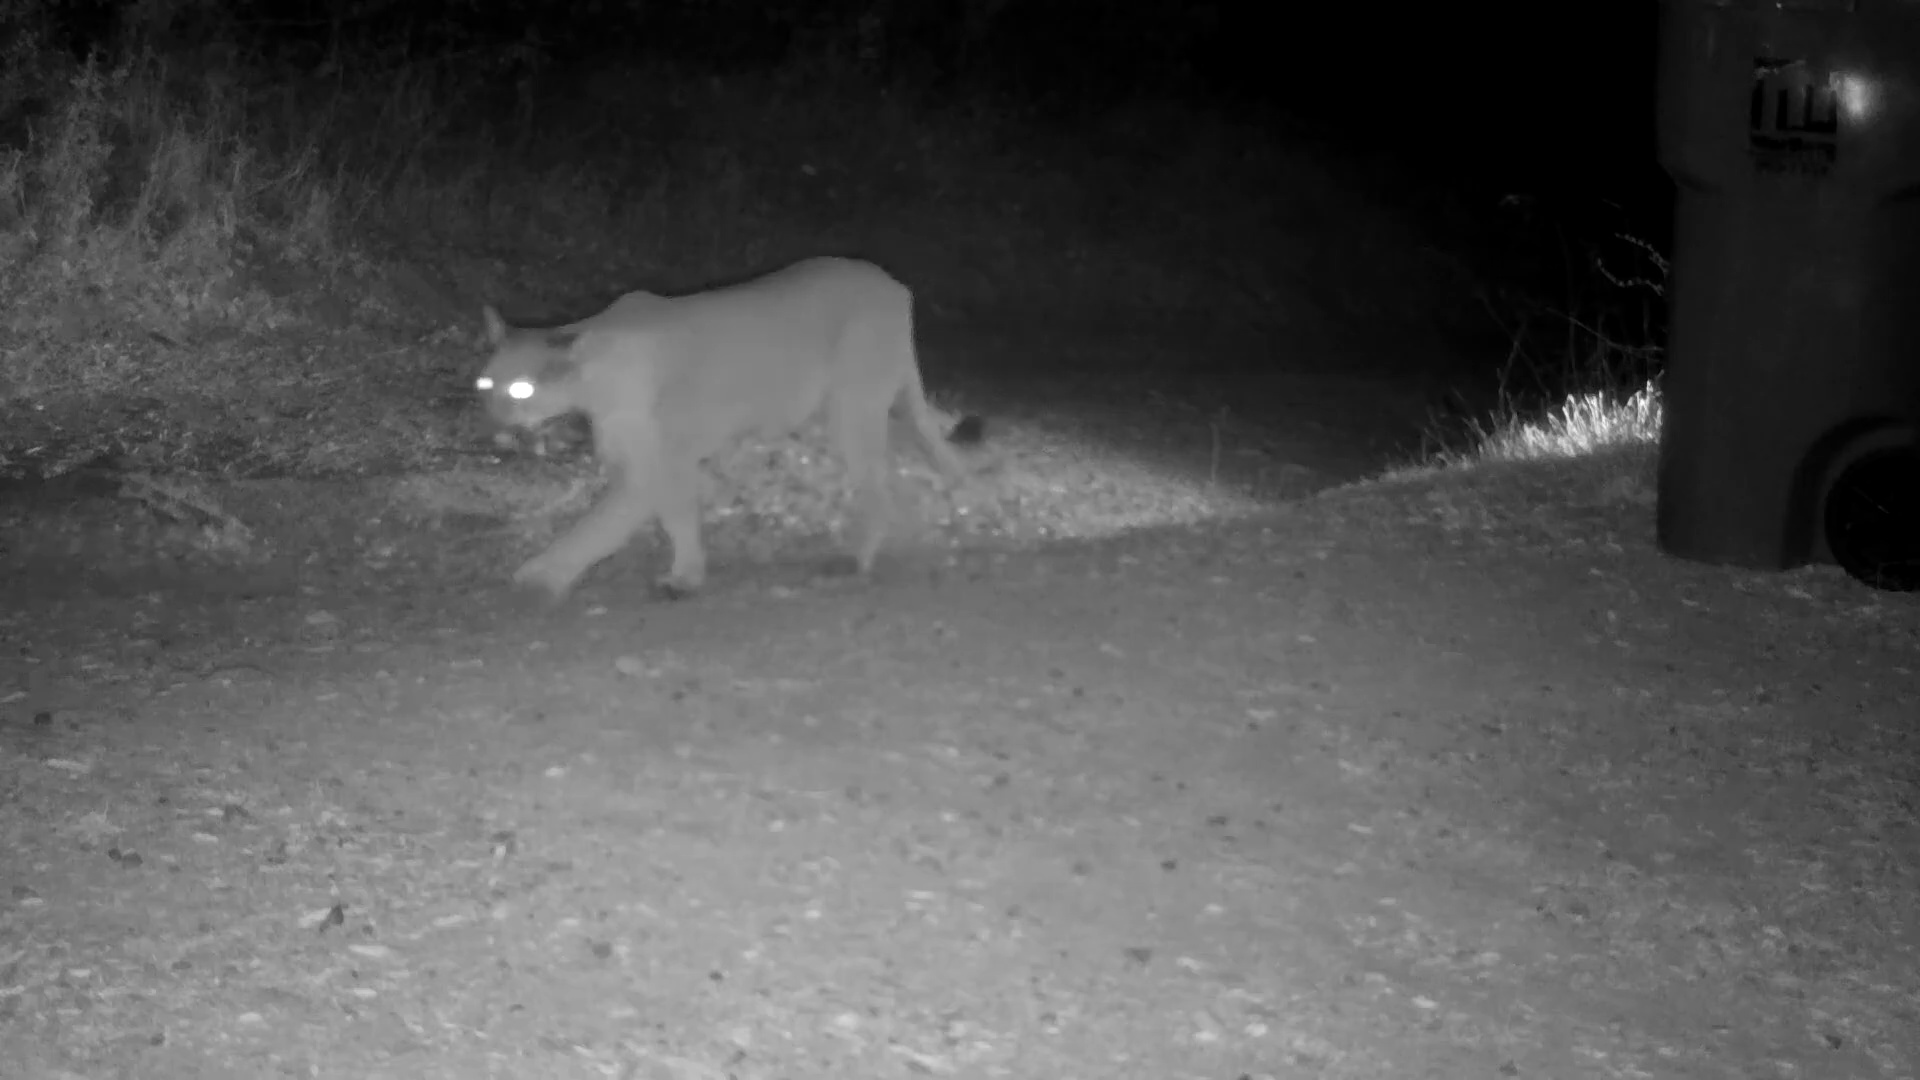Lion: (472, 255, 986, 597)
